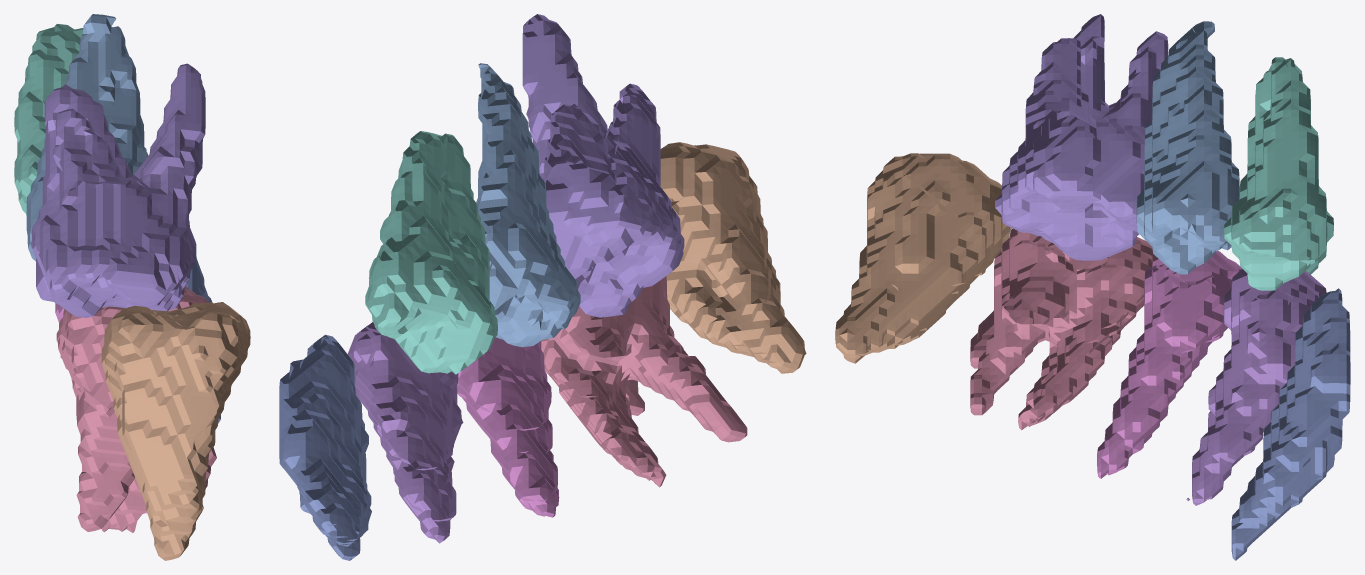
The model's file is STS24_Train_Labeled_0001.glb.
3 renders of one model, left to right at view 1: azimuth 30°, elevation 25°; view 2: azimuth 150°, elevation 25°; view 3: azimuth 270°, elevation 25°, orthographic. The views are drawn at different scales.
Parts seen in each view (by area): view 1: teeth__16, teeth__47, teeth__46, teeth__15, teeth__23, teeth__43; view 2: teeth__16, teeth__23, teeth__47, teeth__46, teeth__15, teeth__43, teeth__44, teeth__45; view 3: teeth__16, teeth__47, teeth__46, teeth__15, teeth__23, teeth__43, teeth__44, teeth__45.
Boxes of the visible parts, x1,y1,x2,y2 form: teeth__16: (32,63,205,317); teeth__47: (101,302,250,560); teeth__46: (56,286,216,532); teeth__15: (26,14,146,261); teeth__23: (14,24,148,215); teeth__43: (186,243,220,422); teeth__16: (522,14,684,317); teeth__23: (365,131,497,374); teeth__47: (660,142,806,373); teeth__46: (541,276,747,487); teeth__15: (476,63,580,347); teeth__43: (279,334,371,560); teeth__44: (347,322,463,543); teeth__45: (457,337,559,517); teeth__16: (995,14,1168,260); teeth__47: (835,153,1011,363); teeth__46: (970,228,1156,430); teeth__15: (1136,21,1239,274); teeth__23: (1223,57,1333,290); teeth__43: (1231,288,1350,560); teeth__44: (1186,269,1326,505); teeth__45: (1097,251,1242,478).
Size of the model in its own units: 24.57 by 40.06 by 39.
